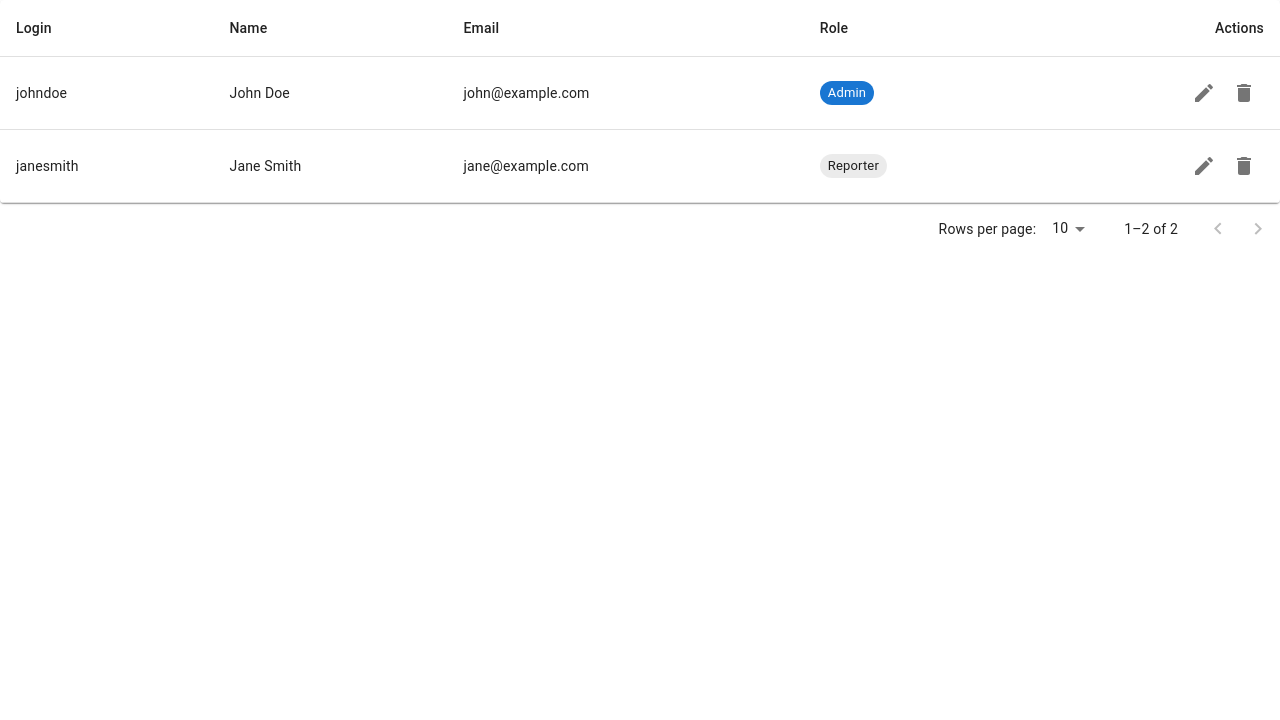
it: UserTable › handles deletion error and shows error message
# Find delete button by data-testid
What coordinates should you click on to do the following:
click the button with test id "delete-user-1"
I would click on:
 (1244, 93)
Its box is [1224, 73, 1264, 113].
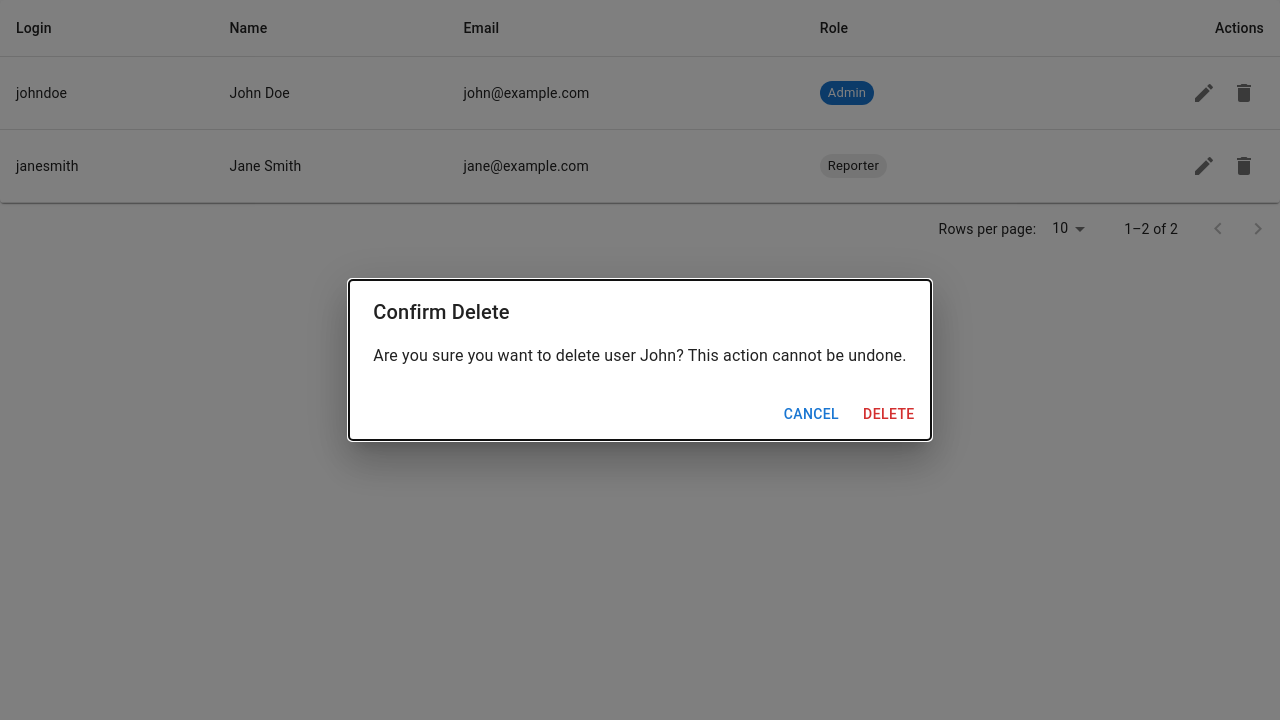
Expected: the text with test id "delete-confirmation-text" is shown, [373, 344, 907, 368]
# Find and click the dialog's delete button by data-testid
What coordinates should you click on to do the following:
click the button with test id "confirm-delete-button"
I would click on:
 (889, 414)
Its box is [855, 396, 923, 432].
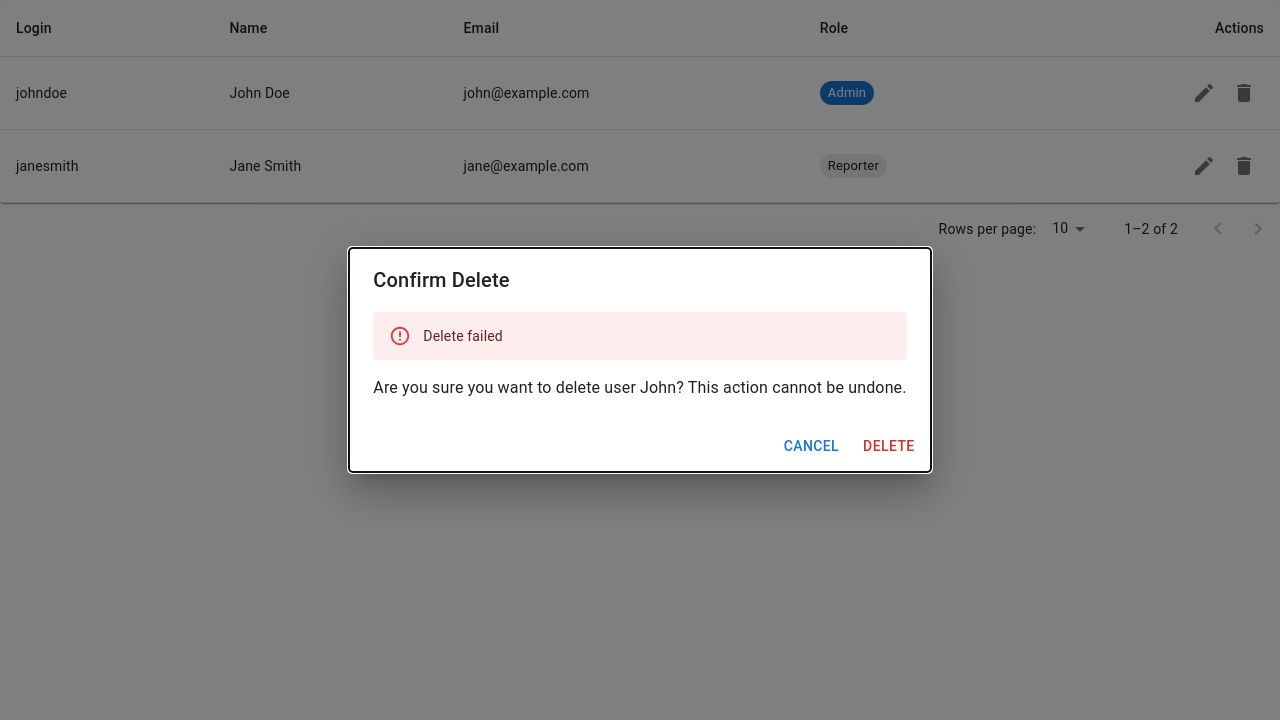
Expected: the text with test id "delete-confirmation-text" is shown, [373, 376, 907, 400]
Expected: the message "Delete failed" is shown, [373, 312, 907, 360]
Expected: the message with test id "delete-error" reads "Delete failed", [423, 328, 503, 344]
